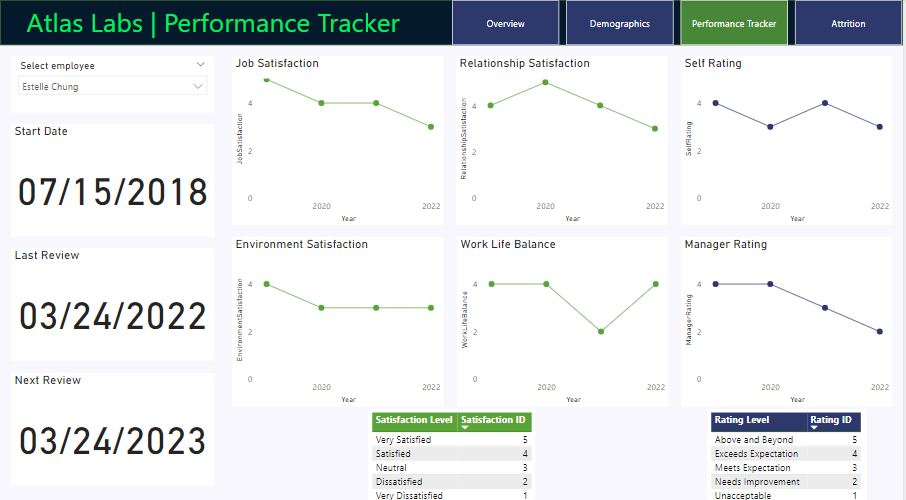

The page's visual inventory and layout, read from the dashboard file:
{"tool":"powerbi","page":{"name":"Performance Tracker","canvas":[1280,720],"ordinal":2},"visuals":[{"type":"shape","box":[0,0,1280,64],"z":0},{"type":"textbox","box":[32,0,624,64],"z":1000},{"type":"pageNavigator","box":[640,0,640,64],"z":2000},{"type":"slicer","fields":{"Values":["DimEmployee.FullName"]},"box":[16,80,288,80],"z":3000},{"type":"card","title":"Start Date","fields":{"Values":["Min(DimEmployee.HireDate)"]},"box":[16,176,288,160],"z":4000},{"type":"card","title":"Last Review","fields":{"Values":["_Measures.LastReviewDate"]},"box":[16,352,288,160],"z":5000},{"type":"card","title":"Next Review","fields":{"Values":["_Measures.NextReviewDate"]},"box":[16,528,288,160],"z":6000},{"type":"lineChart","title":"Job Satisfaction","fields":{"Y":["_Measures.JobSatisfaction"],"Category":["DimDate.Year"]},"box":[328.3,79.8,300,240.3],"z":7000},{"type":"lineChart","title":"Relationship Satisfaction","fields":{"Y":["_Measures.RelationshipSatisfaction"],"Category":["DimDate.Year"]},"box":[646.9,79.8,300,240.3],"z":8000},{"type":"lineChart","title":"Self Rating","fields":{"Y":["_Measures.SelfRating"],"Category":["DimDate.Year"]},"box":[965.5,79.8,299.7,240.3],"z":9000},{"type":"lineChart","title":"Work Life Balance","fields":{"Y":["_Measures.WorkLifeBalance"],"Category":["DimDate.Year"]},"box":[647.4,335.5,299.7,240.3],"z":10000},{"type":"lineChart","title":"Manager Rating","fields":{"Y":["_Measures.ManagerRating"],"Category":["DimDate.Year"]},"box":[965.5,335.5,299.7,240.3],"z":11000},{"type":"lineChart","title":"Environment Satisfaction","fields":{"Y":["_Measures.EnvironmentSatisfaction"],"Category":["DimDate.Year"]},"box":[328.3,335.5,300,240.3],"z":12000},{"type":"tableEx","fields":{"Values":["DimRatingLevel.RatingLevel","DimRatingLevel.RatingID"]},"box":[1002.3,579.9,227,140.1],"z":13000},{"type":"tableEx","fields":{"Values":["DimSatisfiedLevel.SatisfactionLevel","DimSatisfiedLevel.SatisfactionID"]},"box":[521.6,579.9,237.3,140.1],"z":14000}]}

Visuals, with their boxes in screenshot pixels (x1, y1, x2, y2), scaled from the page's 1280x720 canvas onto the 906x500 screenshot:
shape: box(0, 0, 905, 44)
textbox: box(23, 0, 464, 44)
pageNavigator: box(453, 0, 905, 44)
slicer - DimEmployee.FullName: box(11, 56, 215, 111)
"Start Date" card: box(11, 122, 215, 233)
"Last Review" card: box(11, 244, 215, 356)
"Next Review" card: box(11, 367, 215, 478)
"Job Satisfaction" lineChart: box(232, 55, 445, 222)
"Relationship Satisfaction" lineChart: box(458, 55, 670, 222)
"Self Rating" lineChart: box(683, 55, 896, 222)
"Work Life Balance" lineChart: box(458, 233, 670, 400)
"Manager Rating" lineChart: box(683, 233, 896, 400)
"Environment Satisfaction" lineChart: box(232, 233, 445, 400)
tableEx - DimRatingLevel.RatingLevel x DimRatingLevel.RatingID: box(709, 403, 870, 499)
tableEx - DimSatisfiedLevel.SatisfactionLevel x DimSatisfiedLevel.SatisfactionID: box(369, 403, 537, 499)
